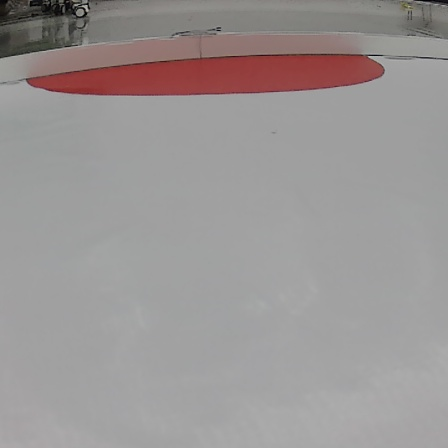red_base: (19, 48, 386, 98)
